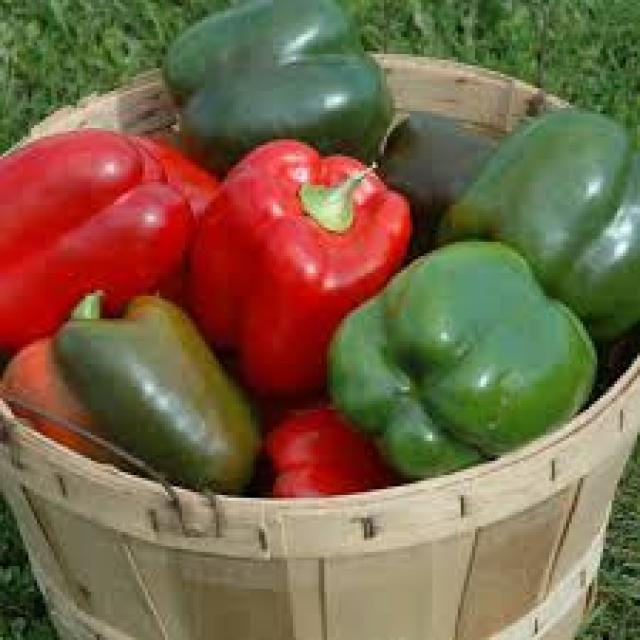bell_pepper: (324, 234, 589, 492), (9, 280, 266, 496), (460, 92, 638, 348), (148, 5, 410, 172)
